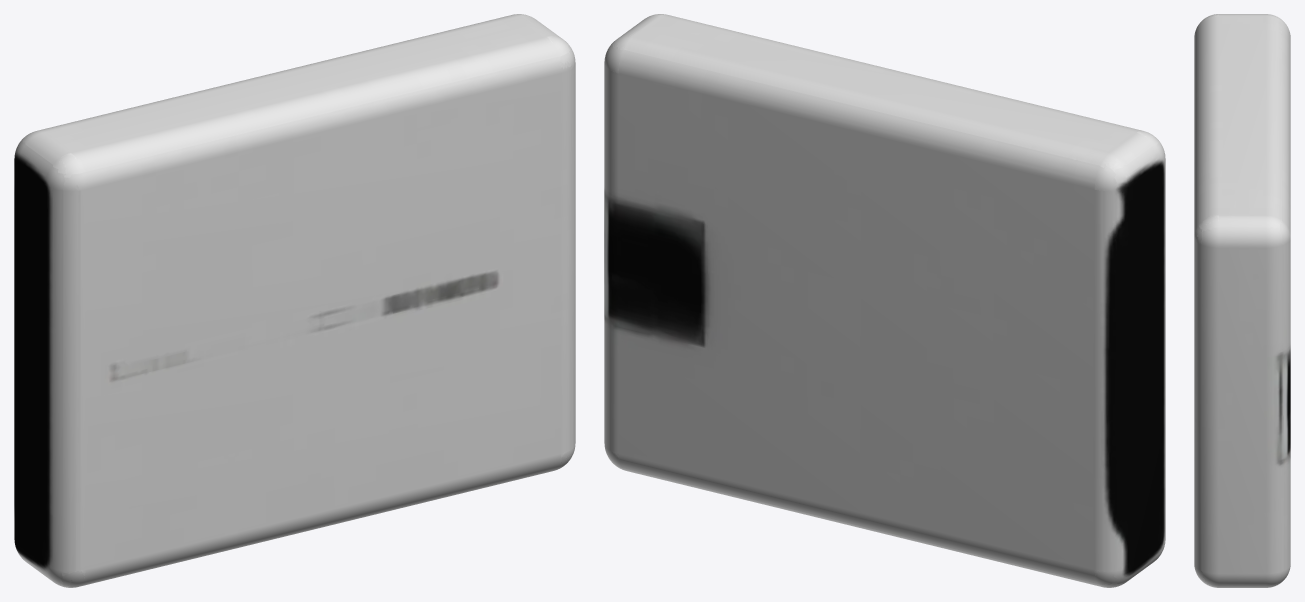
The model's file is seat__seat_cushion.glb.
The picture shows the model from 3 angles, left to right: view 1: azimuth 30°, elevation 25°; view 2: azimuth 150°, elevation 25°; view 3: azimuth 270°, elevation 25°; orthographic projection. The views are drawn at different scales.
Visible parts, largest first — view 1: world; view 2: world; view 3: world.
Boxes of the visible parts, x1,y1,x2,y2 form: world: [14, 14, 575, 587]; world: [604, 14, 1165, 587]; world: [1194, 14, 1290, 587].
Bounding box in the file's own units: 0.42 × 0.33 × 0.078.
1 material, 1 textured.
